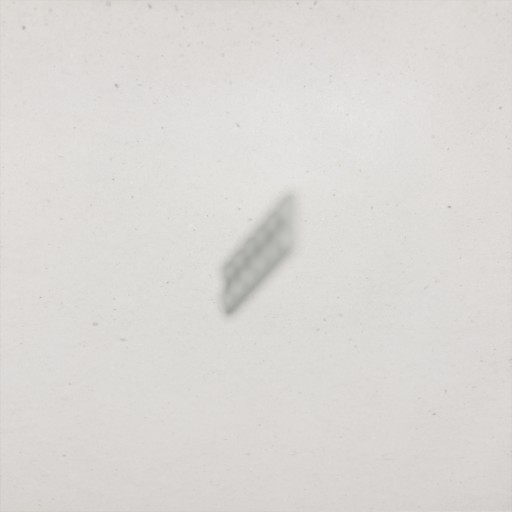lego: (218, 188, 300, 320)
